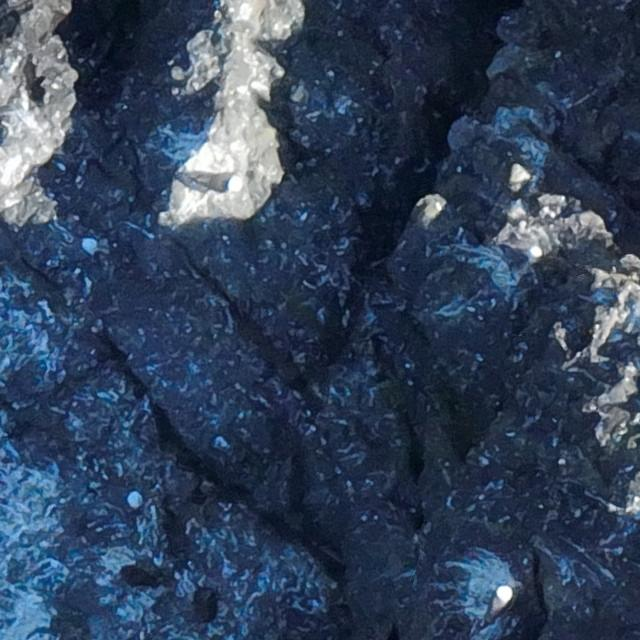umineko: (61, 238, 98, 267), (100, 488, 148, 508), (197, 173, 243, 190), (491, 583, 512, 614)
